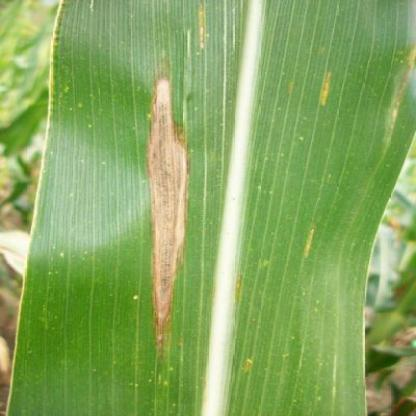corn leaf blight: (16, 1, 401, 415)
